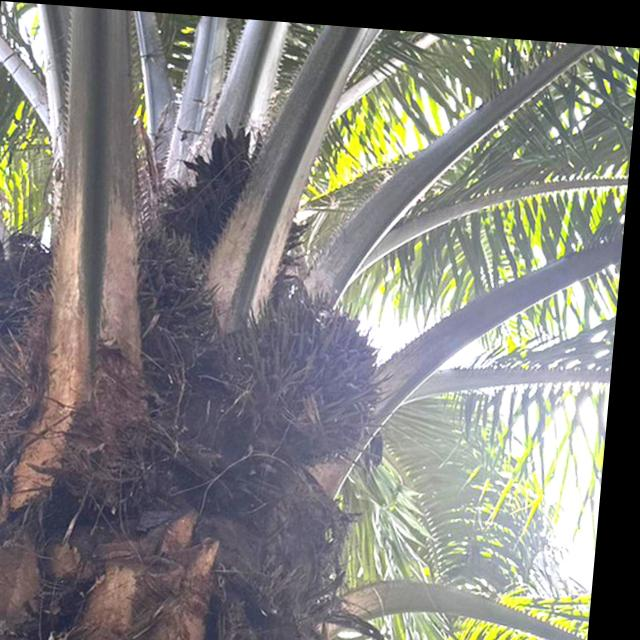ripe: (203, 260, 408, 475)
